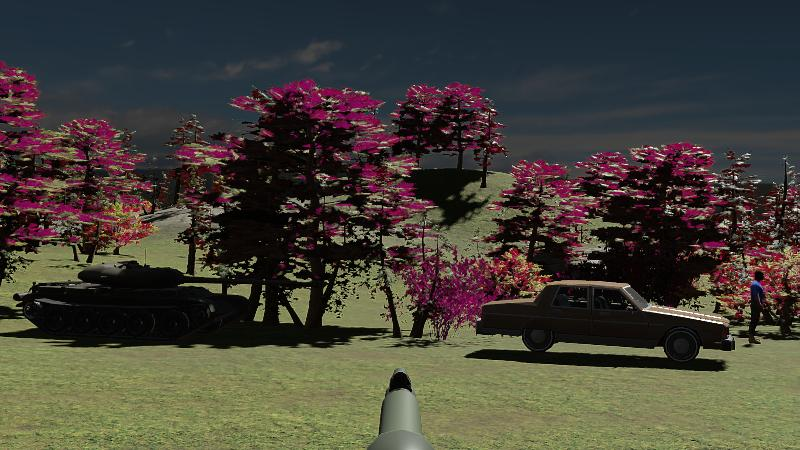Human: (747, 270, 765, 345)
Tank: (12, 261, 298, 344)
car: (475, 279, 735, 361)
